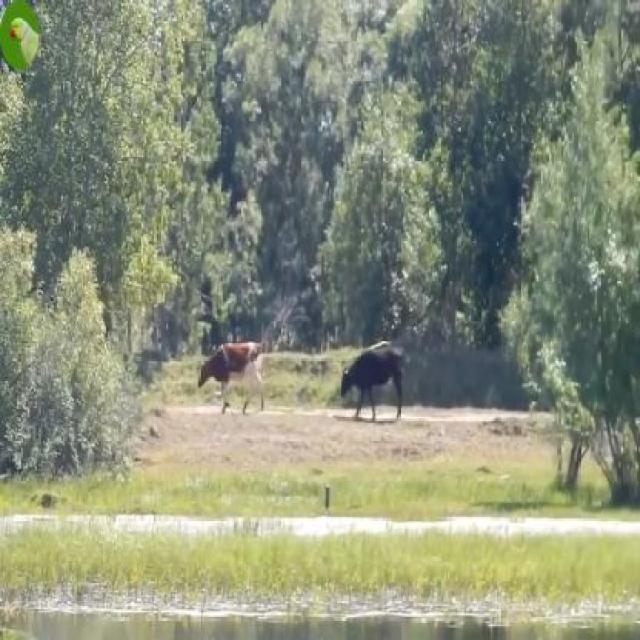Cow: (197, 344, 263, 424), (340, 343, 403, 426)
